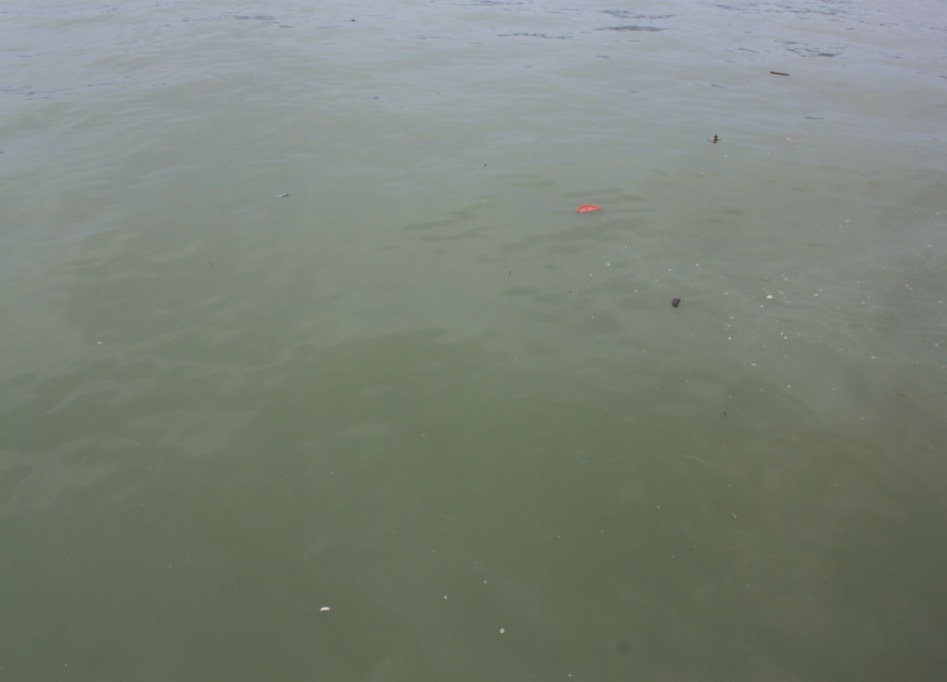organic: (704, 130, 727, 148)
plastic: (566, 193, 617, 229), (663, 285, 692, 320), (310, 598, 339, 620)
